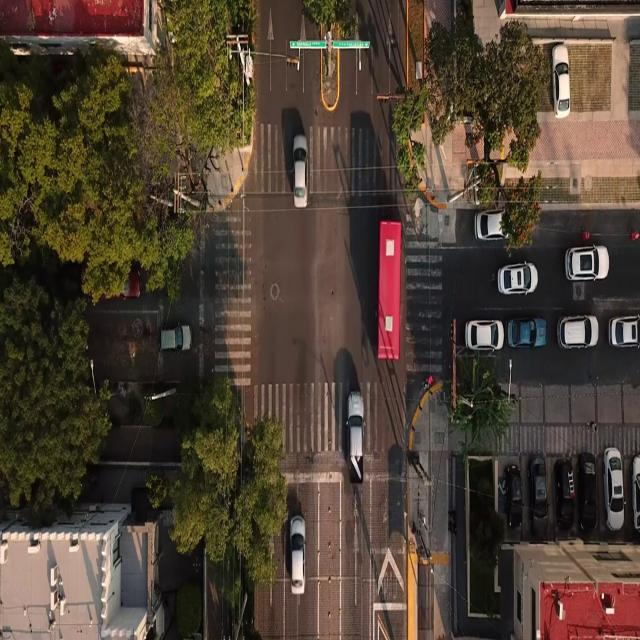car: (604, 447, 624, 531), (528, 456, 547, 540), (565, 246, 609, 280), (554, 459, 575, 529), (347, 392, 363, 482), (578, 453, 596, 532), (558, 316, 598, 348), (497, 263, 537, 295), (552, 45, 569, 118), (465, 320, 504, 351), (290, 516, 305, 594), (507, 319, 546, 347), (505, 465, 522, 527), (293, 135, 307, 207), (609, 316, 640, 348), (475, 209, 505, 239), (159, 325, 192, 351), (114, 270, 140, 298), (632, 456, 639, 531)
